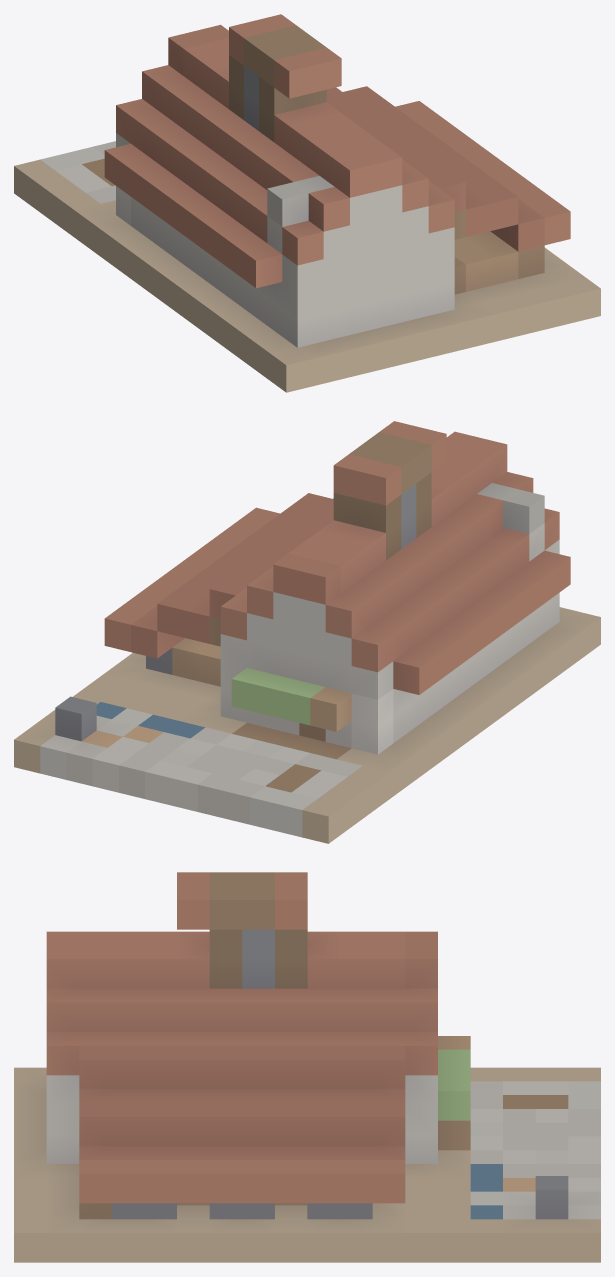
File: winepress.lite.glb
3 renders of one model, top to bottom at view 1: azimuth 30°, elevation 25°; view 2: azimuth 150°, elevation 25°; view 3: azimuth 270°, elevation 25°, orthographic. The views are drawn at different scales.
Parts seen in each view (by area): view 1: winepress; view 2: winepress; view 3: winepress.
Boxes of the visible parts, left/top/right/bottom form: winepress: left=14, top=14, right=600, bottom=392; winepress: left=14, top=421, right=600, bottom=843; winepress: left=14, top=872, right=600, bottom=1262.
Size of the model in its own units: 6 by 4.5 by 9.
